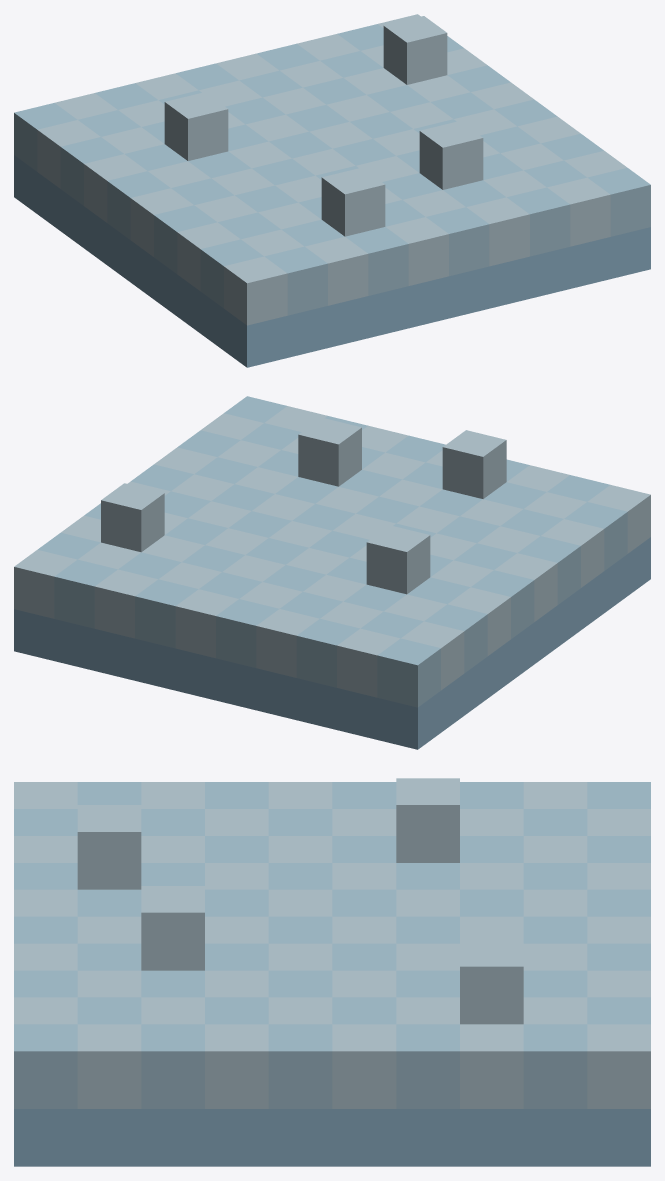
File: tile_water.glb
3 renders of one model, top to bottom at view 1: azimuth 30°, elevation 25°; view 2: azimuth 150°, elevation 25°; view 3: azimuth 270°, elevation 25°, orthographic. The views are drawn at different scales.
Parts seen in each view (by area): view 1: tile_water; view 2: tile_water; view 3: tile_water.
Part boxes in pixels (<box>): tile_water: <box>14,14,650,367</box>; tile_water: <box>14,396,650,749</box>; tile_water: <box>14,778,650,1166</box>.
Size of the model in its own units: 1 by 0.3 by 1.
